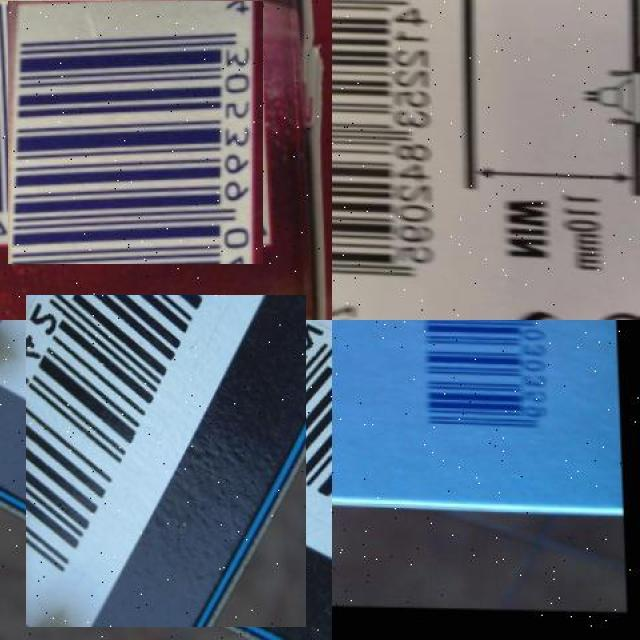Barcode: (13, 307, 319, 614), (3, 0, 267, 260), (332, 0, 460, 298), (401, 320, 572, 443)
